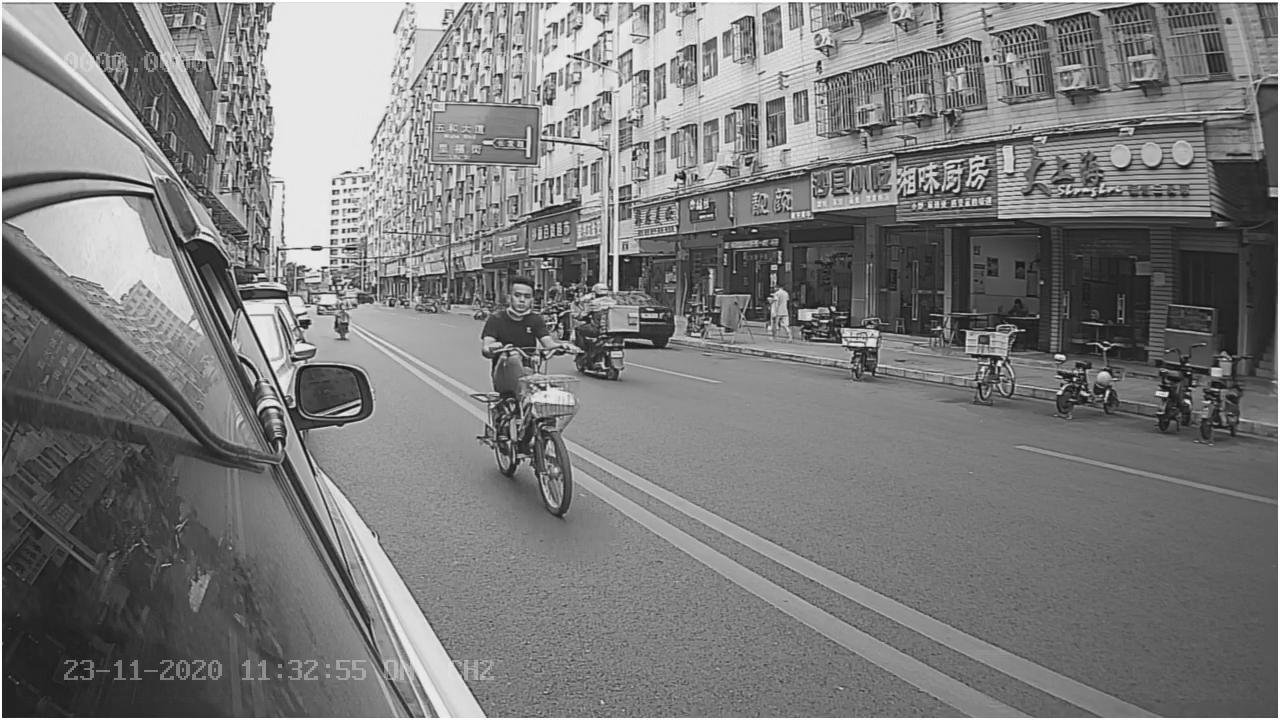person: (482, 266, 569, 353)
